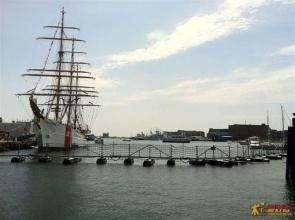fanchuan: (22, 8, 104, 149)
